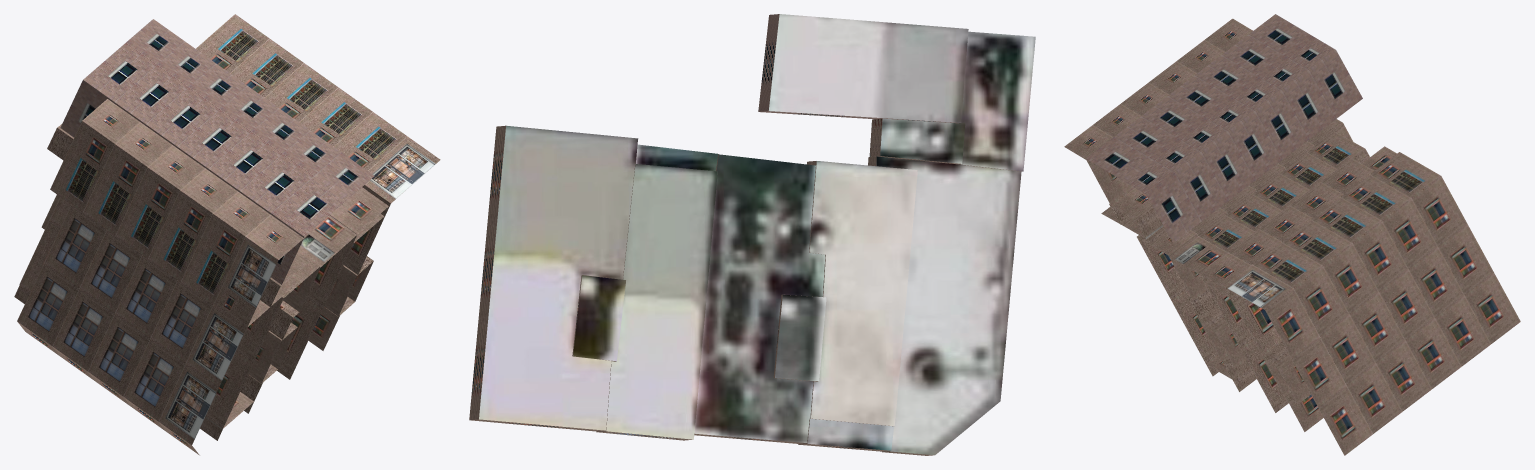
3 renders of one model, left to right at view 1: azimuth 30°, elevation 25°; view 2: azimuth 150°, elevation 25°; view 3: azimuth 270°, elevation 25°, orthographic. The views are drawn at different scales.
Bounding box in the file's own units: 36.09 × 32.44 × 40.53.
Materials: 46 (46 with a texture image).
